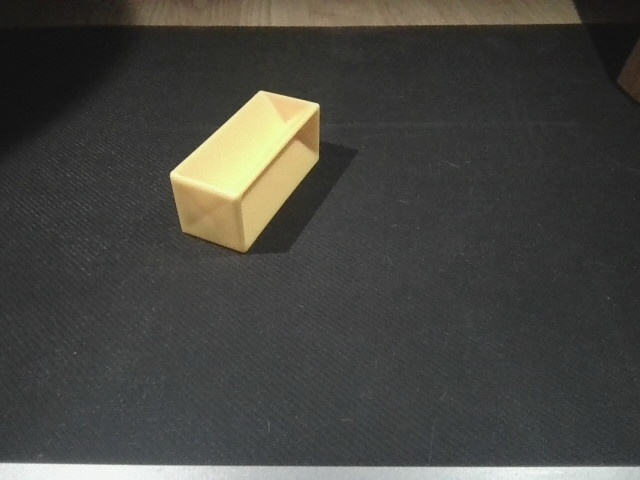YellowSample: (159, 87, 326, 258)
